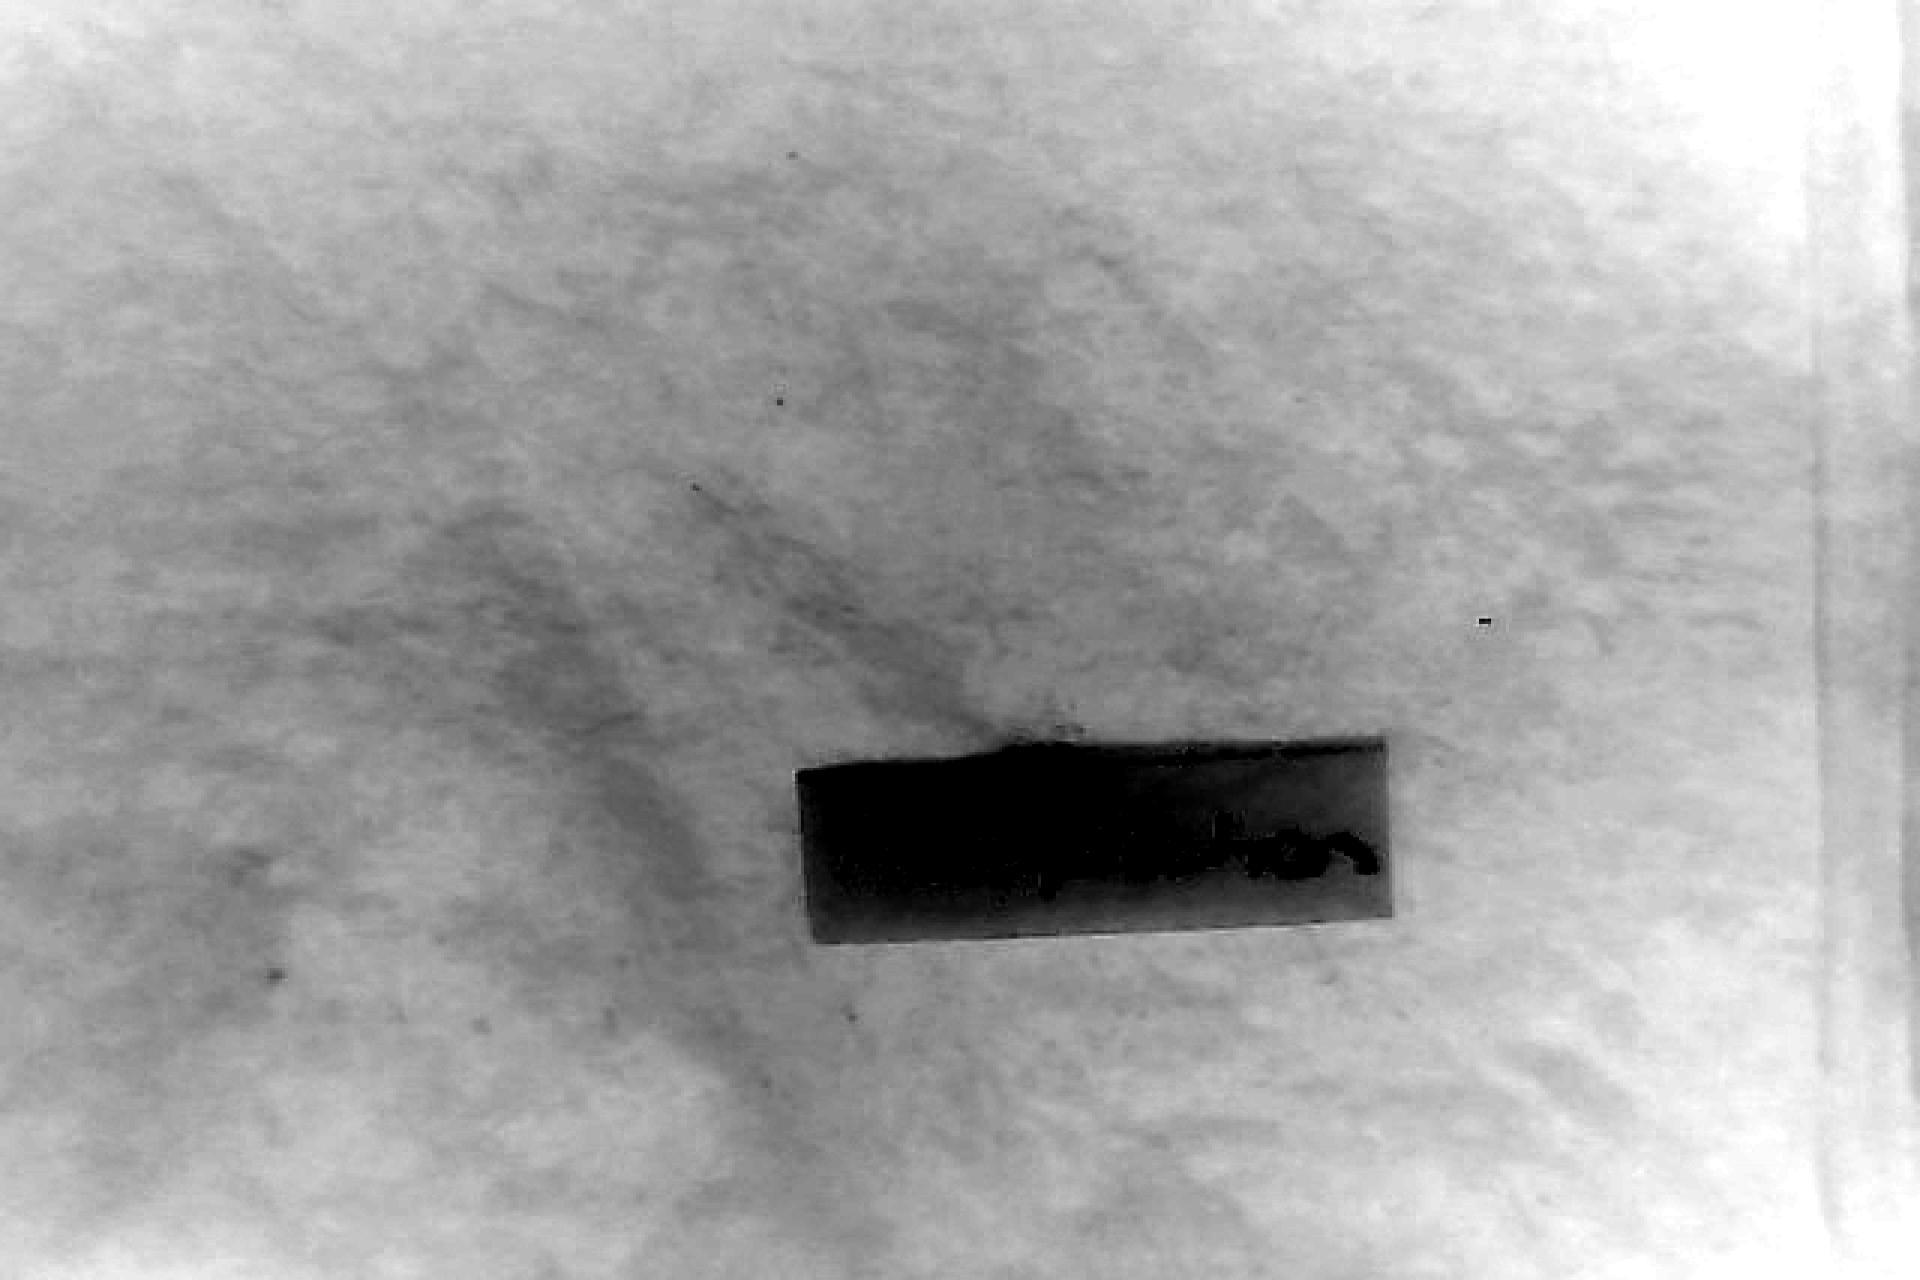hand_label: (799, 745, 1386, 942)
